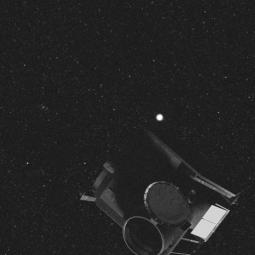cheops: (88, 113, 241, 255)
